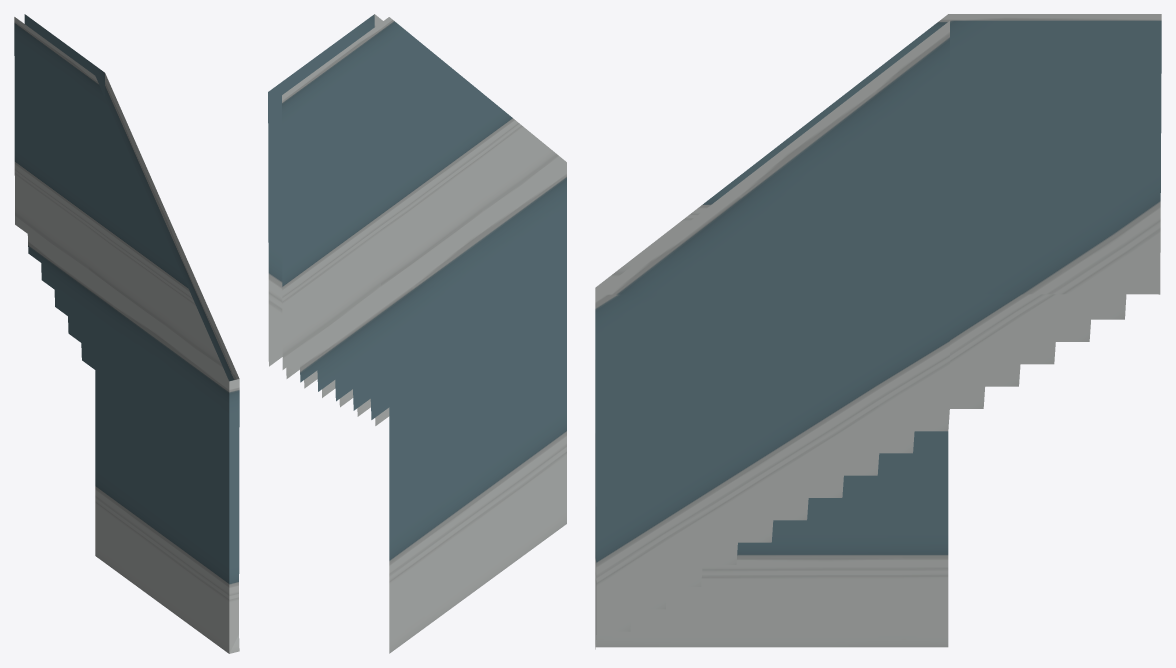
Rendered from SM_Bld_House_Interior_StairsWall_Left_01.fbx.
The picture shows the model from 3 angles, left to right: view 1: azimuth 30°, elevation 25°; view 2: azimuth 150°, elevation 25°; view 3: azimuth 270°, elevation 25°; orthographic projection. The views are drawn at different scales.
Parts seen in each view (by area): view 1: SM_Bld_House_Interior_StairsWall_Left_01; view 2: SM_Bld_House_Interior_StairsWall_Left_01; view 3: SM_Bld_House_Interior_StairsWall_Left_01.
Part boxes in pixels (x1,y1,x2,y2): SM_Bld_House_Interior_StairsWall_Left_01: (14, 14, 239, 653); SM_Bld_House_Interior_StairsWall_Left_01: (268, 14, 566, 653); SM_Bld_House_Interior_StairsWall_Left_01: (595, 14, 1161, 649).
Size of the model in its own units: 11.22 by 495 by 401.
